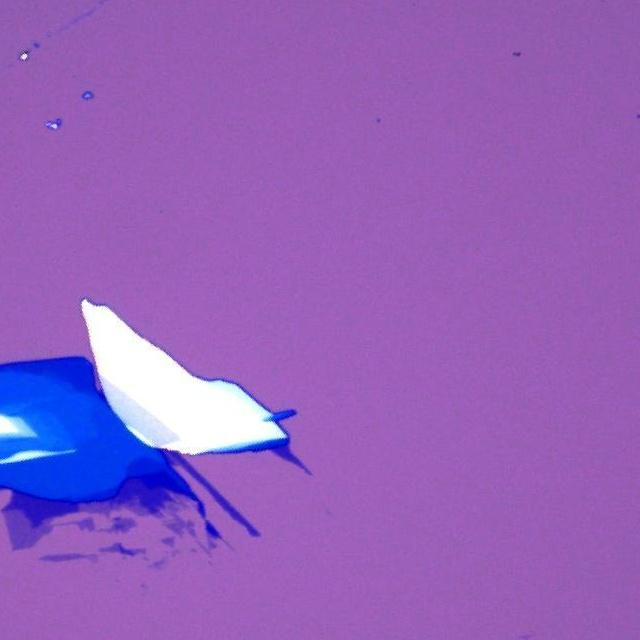monolayer-eWW4: (5, 508, 52, 552)
